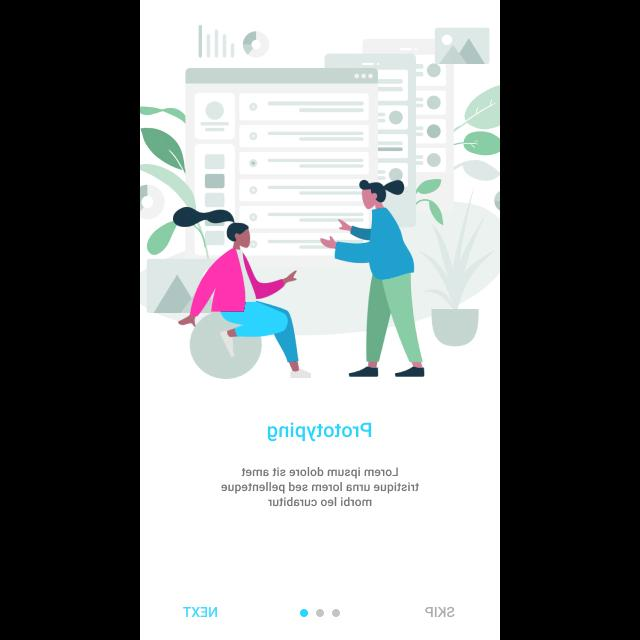image: (140, 24, 500, 380)
pageindicator: (300, 608, 340, 618)
text: (220, 466, 420, 506), (267, 422, 371, 442), (182, 606, 218, 618), (424, 606, 456, 618)
